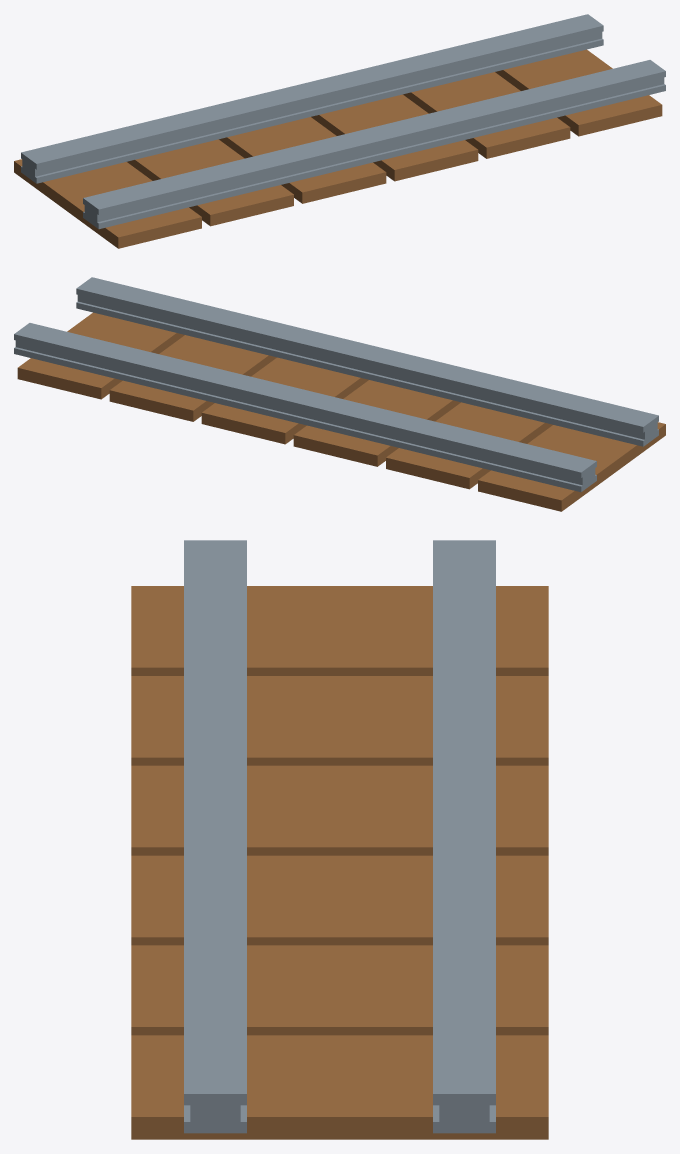
Rendered from Trilho-trem.fbx.
The picture shows the model from 3 angles, top to bottom: view 1: azimuth 30°, elevation 25°; view 2: azimuth 150°, elevation 25°; view 3: azimuth 270°, elevation 25°; orthographic projection. The views are drawn at different scales.
Parts seen in each view (by area): view 1: Trilho, Trilho-madeira; view 2: Trilho, Trilho-madeira; view 3: Trilho-madeira, Trilho.
Part boxes in pixels (x1,y1,x2,y2): Trilho: (21,14,665,229); Trilho-madeira: (14,49,662,248); Trilho: (14,277,658,492); Trilho-madeira: (17,312,665,511); Trilho-madeira: (131,586,548,1139); Trilho: (184,540,495,1133).
Bounding box in the file's own units: 113 × 5.93 × 36.03.
